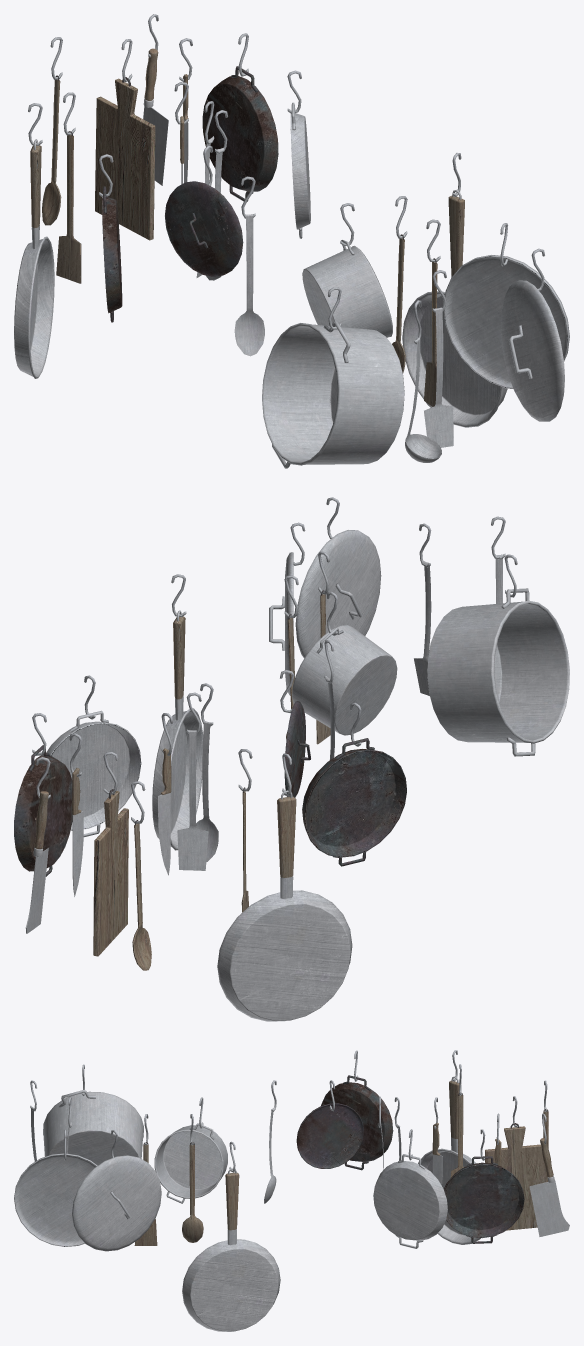
Rendered from SM_KitchenwareGroup.FBX.
3 renders of one model, top to bottom at view 1: azimuth 30°, elevation 25°; view 2: azimuth 150°, elevation 25°; view 3: azimuth 270°, elevation 25°, orthographic. The views are drawn at different scales.
Visible parts, largest first — view 1: SM_KitchenwareGroup_LOD0; view 2: SM_KitchenwareGroup_LOD0; view 3: SM_KitchenwareGroup_LOD0.
Part boxes in pixels (x1,y1,x2,y2): SM_KitchenwareGroup_LOD0: (14, 14, 569, 468); SM_KitchenwareGroup_LOD0: (14, 497, 569, 1021); SM_KitchenwareGroup_LOD0: (14, 1050, 569, 1331).
Size of what is drawn, in the model's own units: 80.7 by 62.96 by 166.
